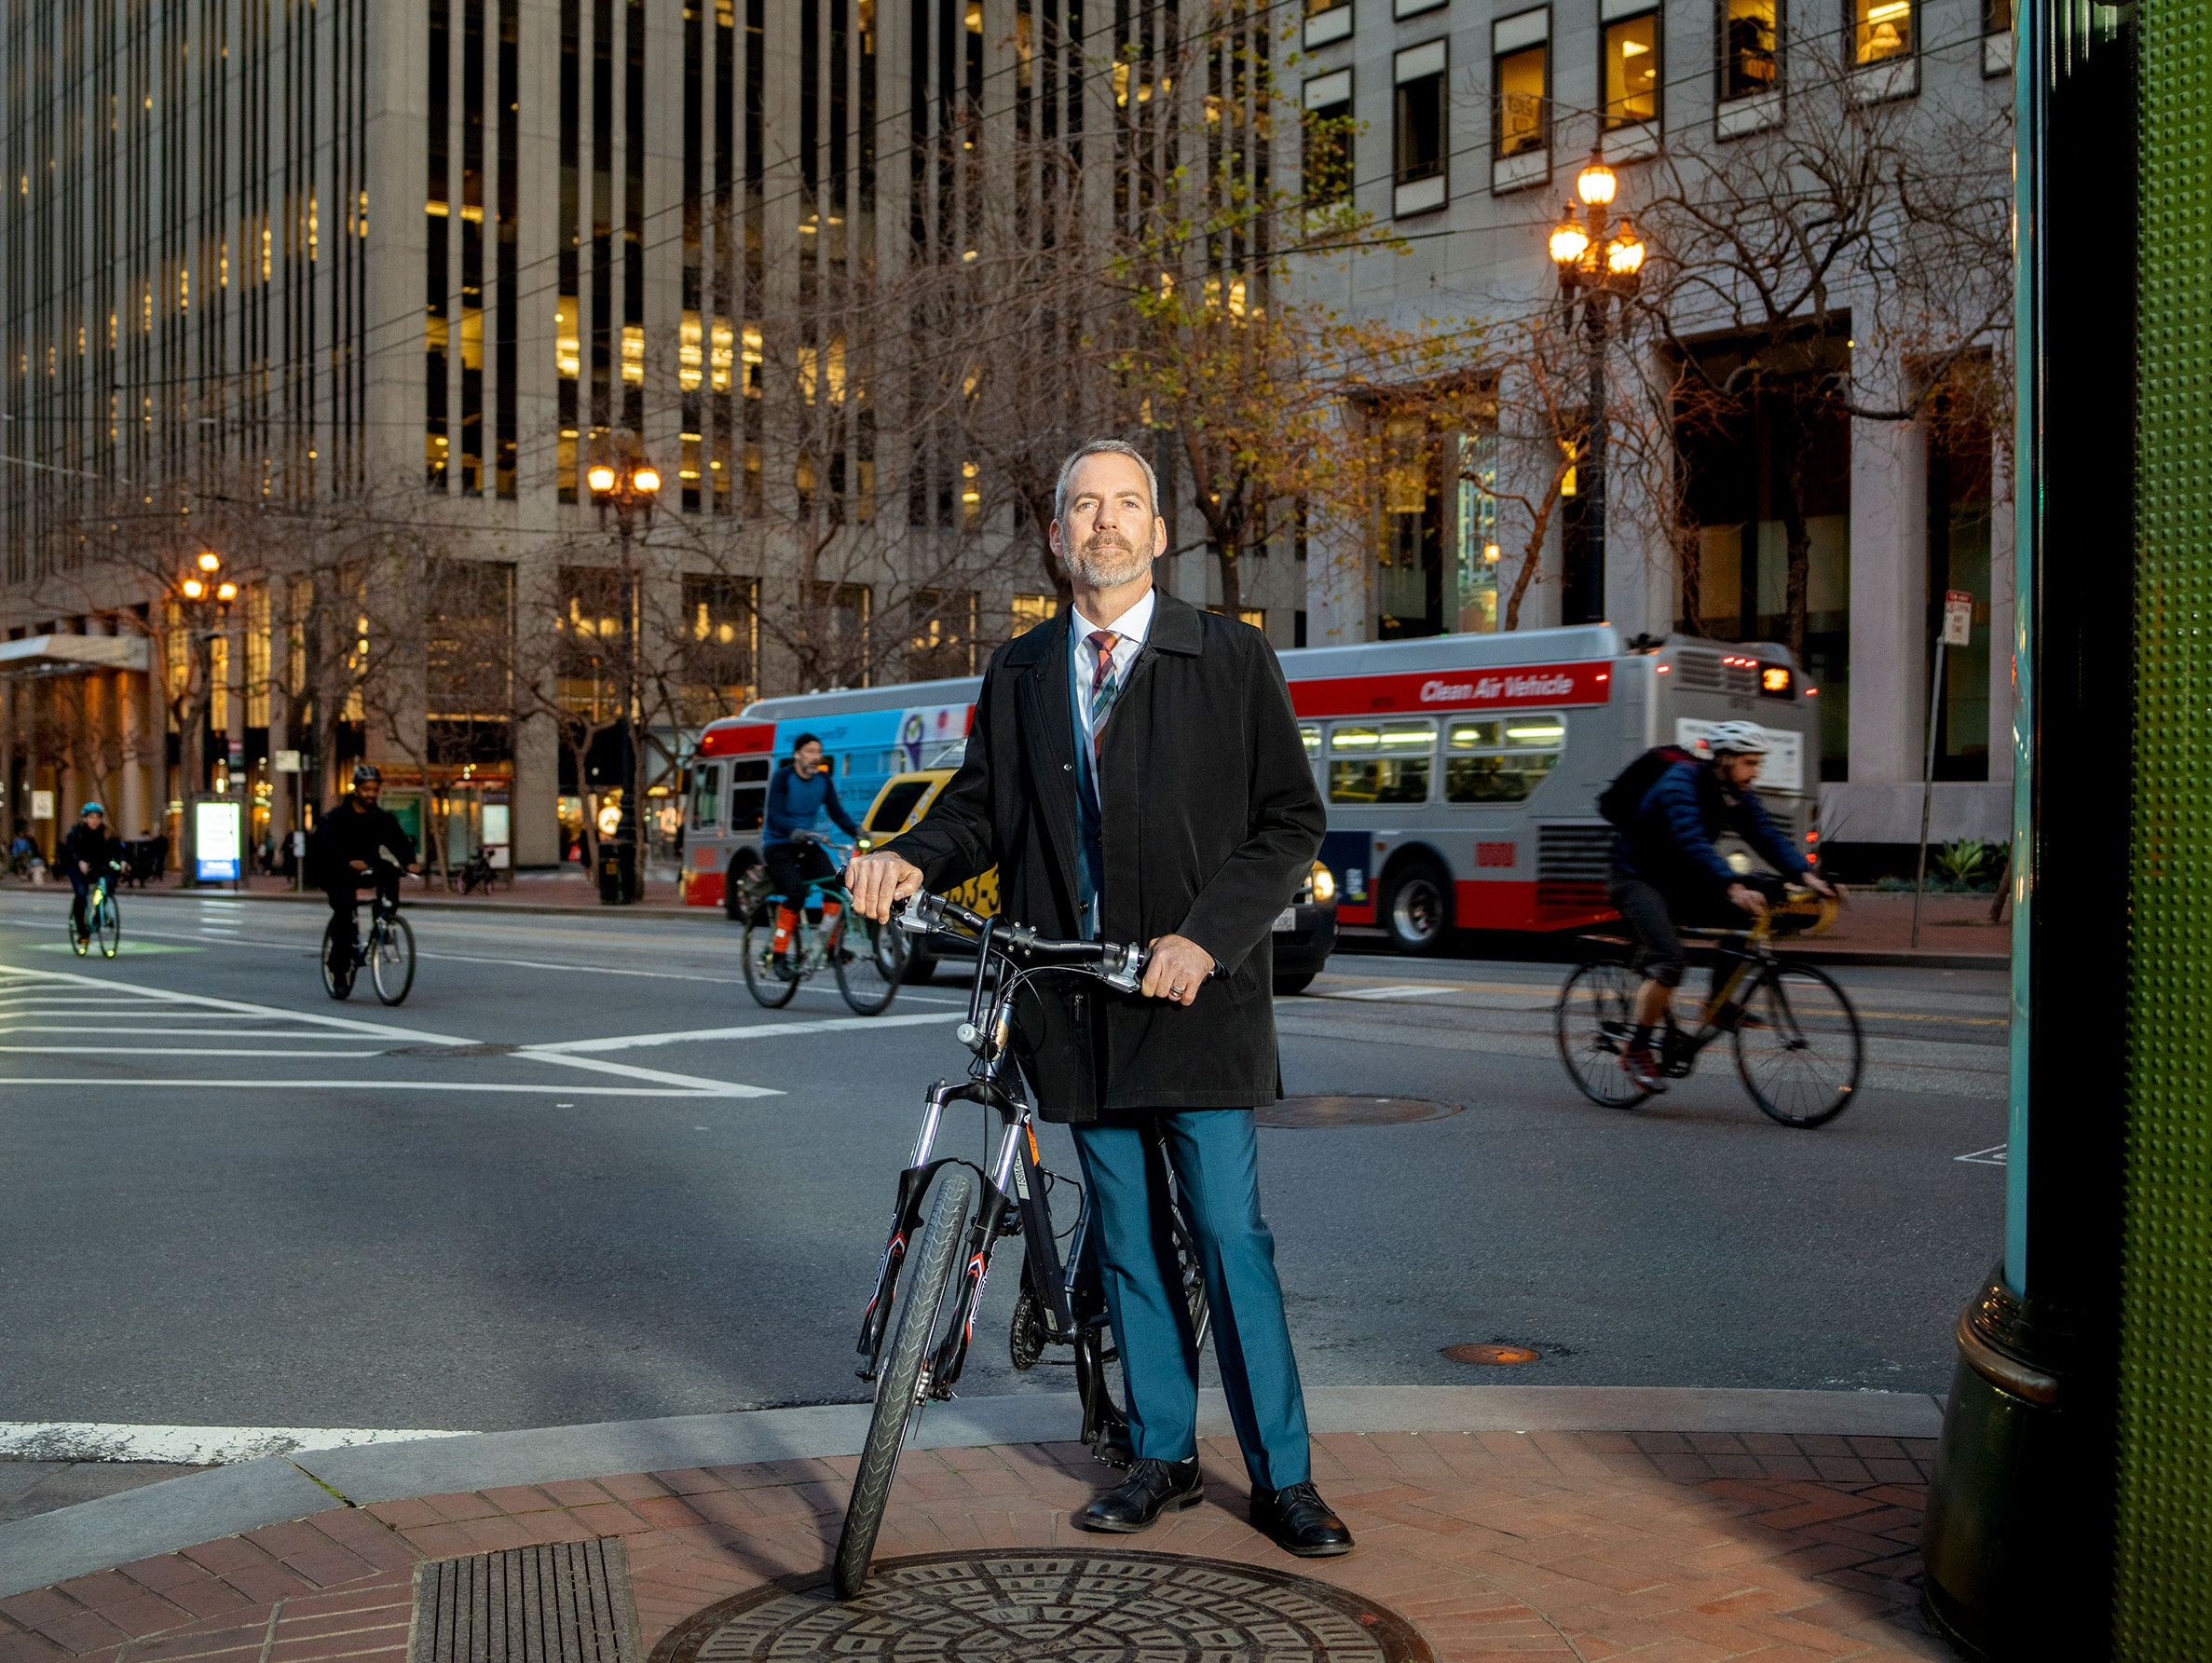person: (799, 429, 1410, 1564), (1550, 726, 1894, 1127), (704, 726, 914, 1002), (290, 757, 442, 1014), (42, 797, 162, 974)
